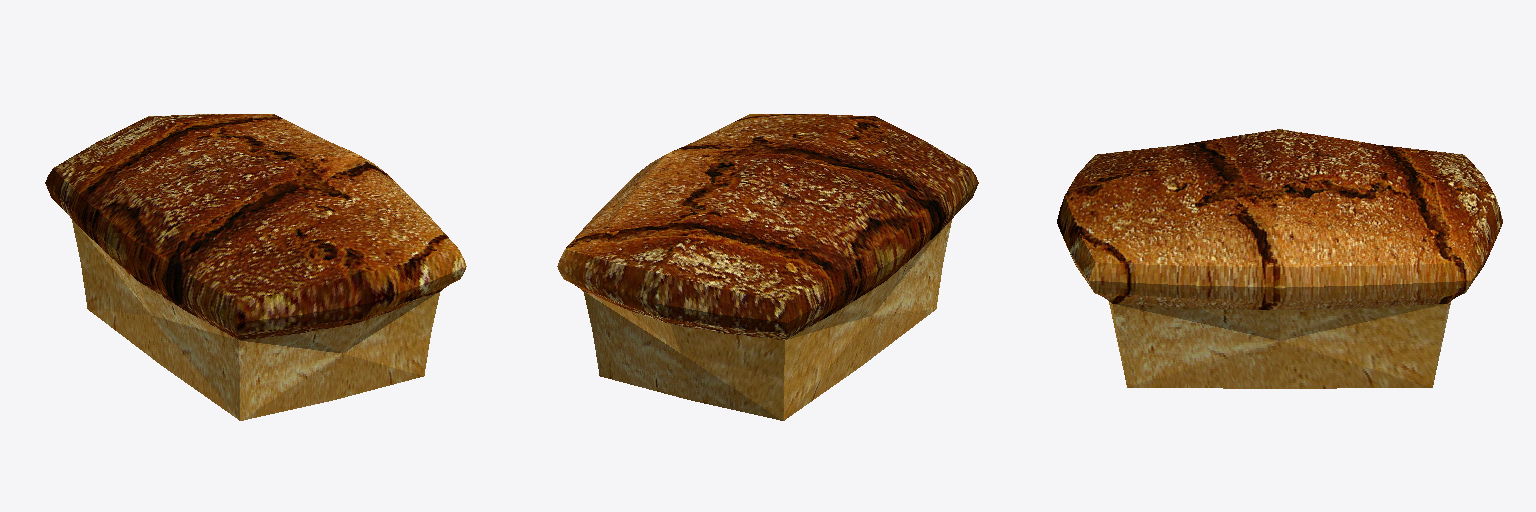
3 renders of one model, left to right at view 1: azimuth 30°, elevation 25°; view 2: azimuth 150°, elevation 25°; view 3: azimuth 270°, elevation 25°, orthographic.
Visible parts, largest first — view 1: Cube; view 2: Cube; view 3: Cube.
Part boxes in pixels (left/top/right/bottom): Cube: left=45, top=114, right=466, bottom=420; Cube: left=557, top=114, right=978, bottom=420; Cube: left=1057, top=129, right=1502, bottom=388.
Bounding box in the file's own units: 1.2 × 0.7682 × 1.72.
Materials: 1 (1 with a texture image).